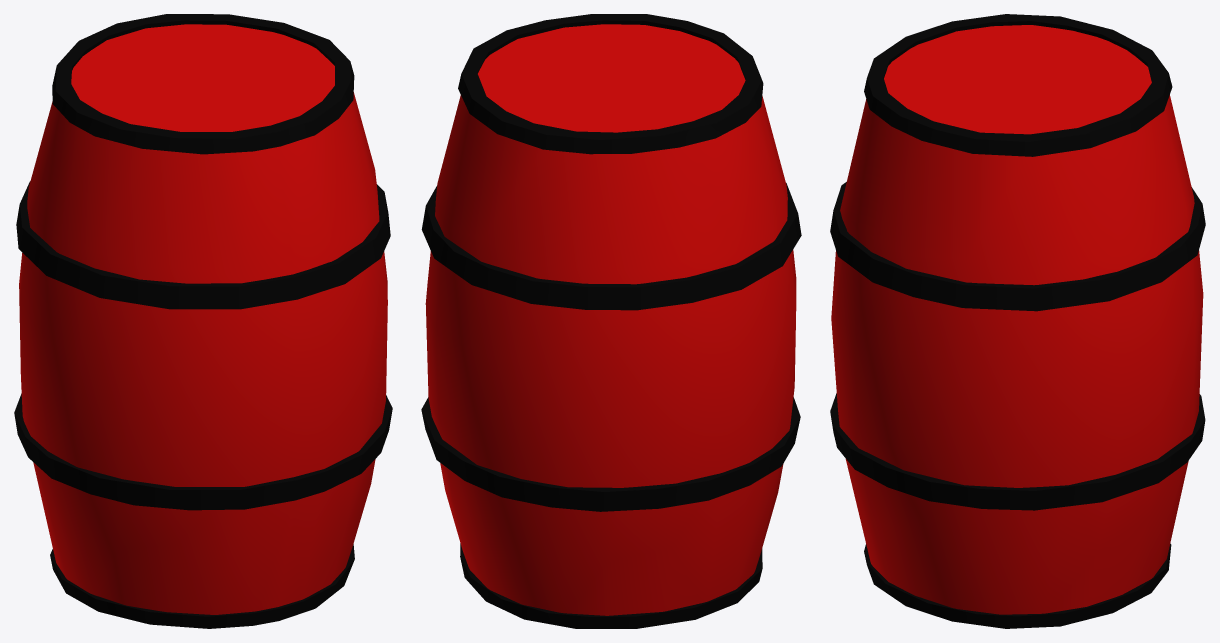
The model's file is SM_Barrel.fbx.
The picture shows the model from 3 angles, left to right: view 1: azimuth 30°, elevation 25°; view 2: azimuth 150°, elevation 25°; view 3: azimuth 270°, elevation 25°; orthographic projection.
Visible parts, largest first — view 1: SM_Barrel; view 2: SM_Barrel; view 3: SM_Barrel.
Boxes of the visible parts, left/top/right/bottom form: SM_Barrel: left=14, top=14, right=392, bottom=628; SM_Barrel: left=421, top=14, right=801, bottom=628; SM_Barrel: left=830, top=14, right=1205, bottom=628.
Bounding box in the file's own units: 63.37 × 63.12 × 90.42.
